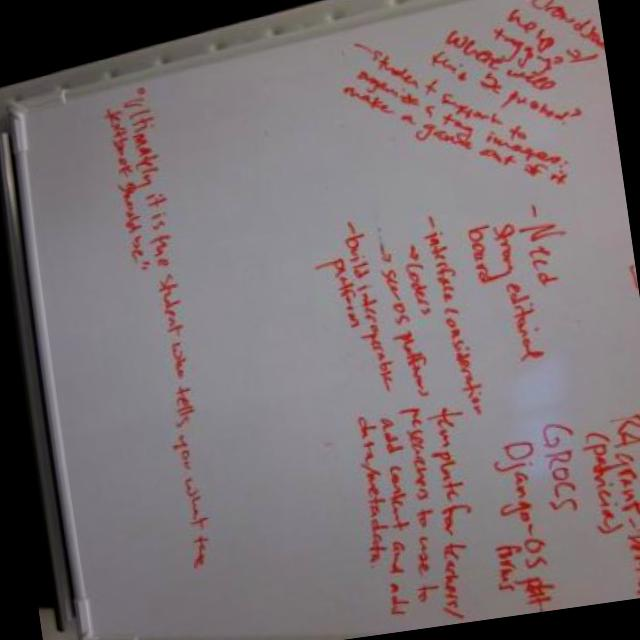White-board: (11, 0, 640, 640)
